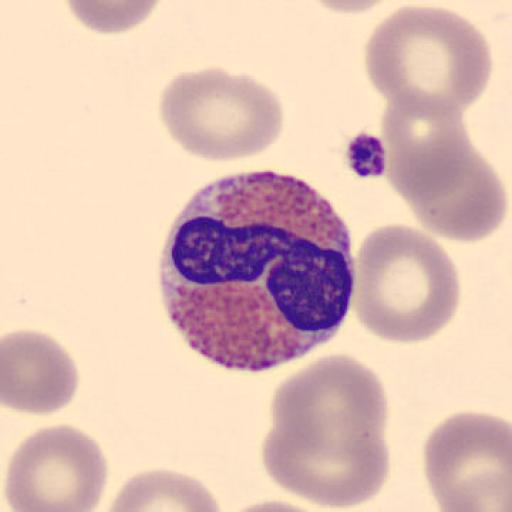Platelet: (340, 128, 391, 181)
RBC: (262, 352, 392, 508), (382, 87, 510, 243), (365, 3, 494, 118), (351, 222, 463, 346), (260, 411, 391, 509), (158, 66, 286, 164), (398, 139, 508, 243), (378, 84, 472, 198), (2, 421, 109, 512), (422, 408, 512, 512), (2, 326, 80, 417), (101, 467, 225, 512), (63, 0, 162, 35), (435, 468, 512, 512), (216, 498, 337, 512), (302, 0, 400, 16)
WBC: (159, 168, 356, 372)
